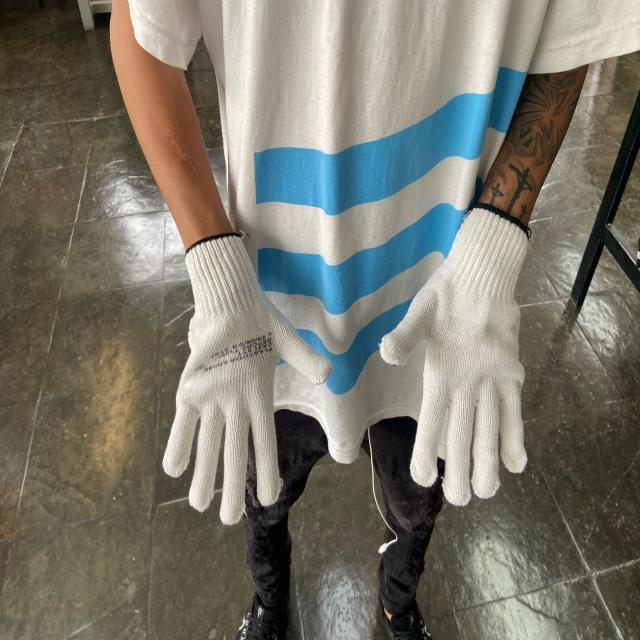LUVA: (154, 231, 340, 529), (376, 199, 535, 511)
SEM BOTA: (226, 580, 299, 639), (378, 579, 442, 638)
